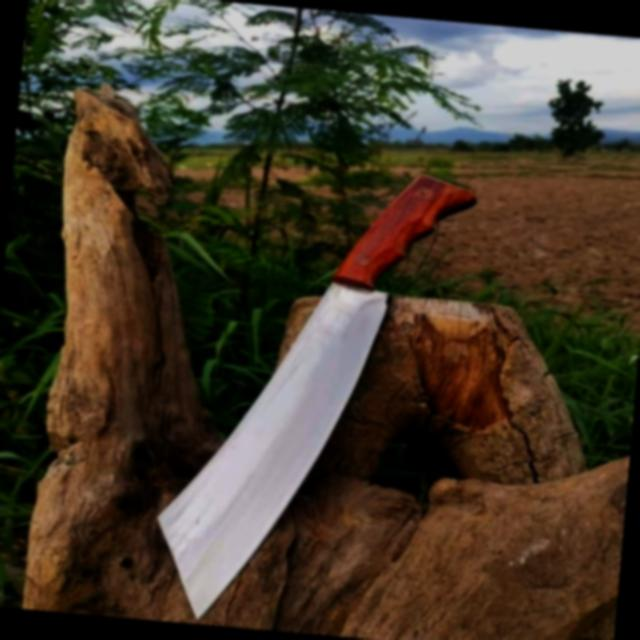eto: (152, 167, 489, 624)
